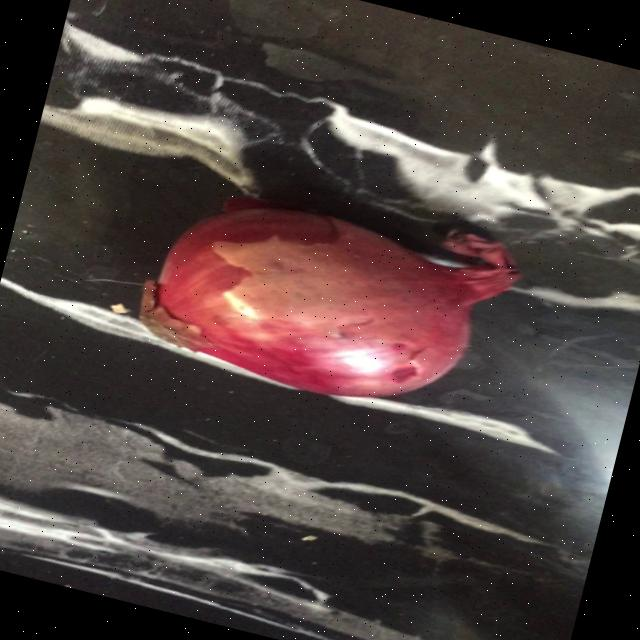Onion: (138, 198, 520, 397)
